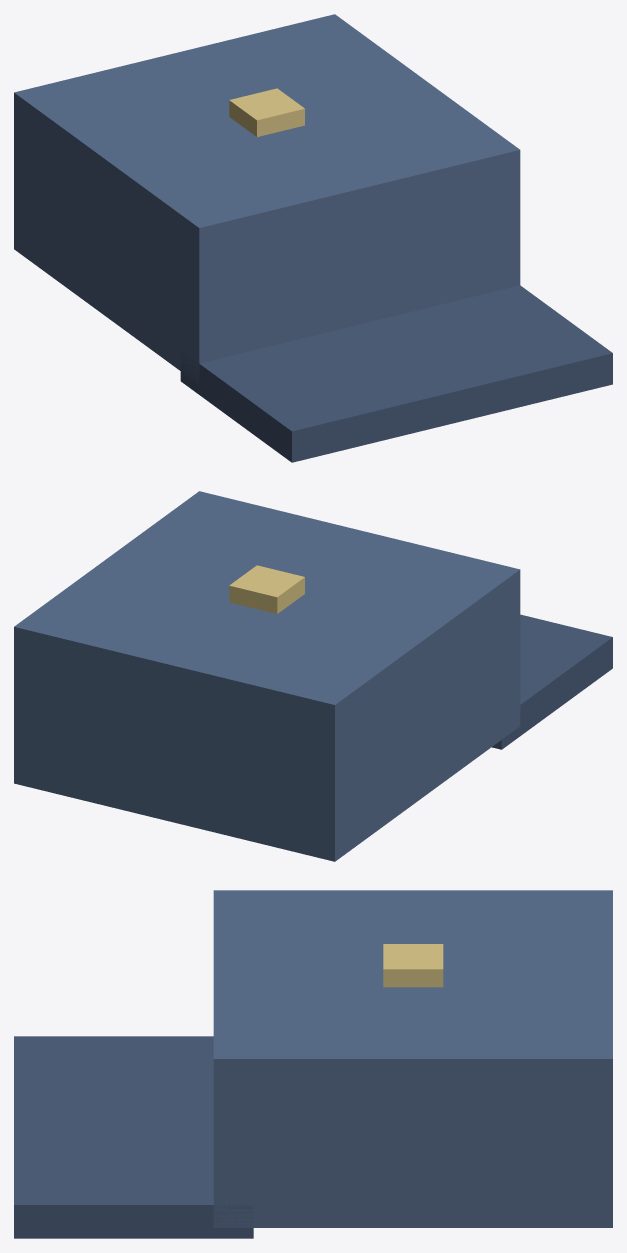
Rendered from cap.gltf.
3 views of the same model, one above another, from view 1: azimuth 30°, elevation 25°; view 2: azimuth 150°, elevation 25°; view 3: azimuth 270°, elevation 25° (orthographic). The views are drawn at different scales.
Parts seen in each view (by area): view 1: Cap; view 2: Cap; view 3: Cap.
Boxes of the visible parts, x1,y1,x2,y2 form: Cap: (14,14,612,462); Cap: (14,491,612,861); Cap: (14,890,612,1238).
Size of the model in its own units: 0.3 by 0.164 by 0.45.
